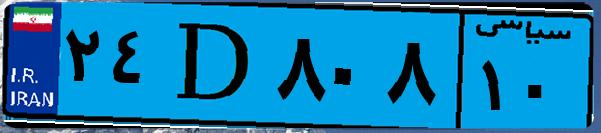0: (330, 28, 385, 110), (525, 38, 570, 115)
1: (475, 38, 525, 113)
2: (57, 26, 110, 100)
4: (110, 28, 158, 98)
8: (270, 28, 330, 110), (385, 28, 445, 110)
D: (158, 12, 270, 120)
